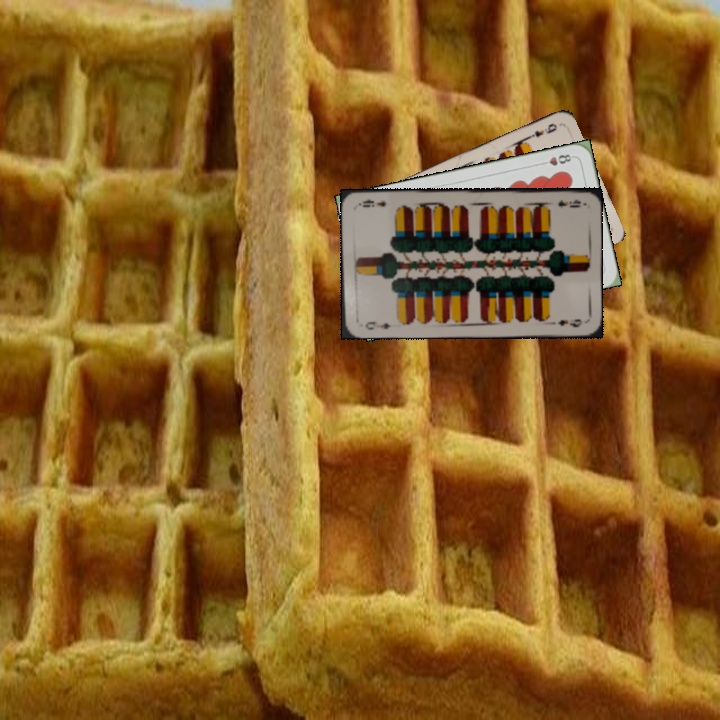E9: (523, 119, 560, 142), (361, 318, 393, 332), (554, 195, 583, 210)
H8: (536, 150, 576, 168)
